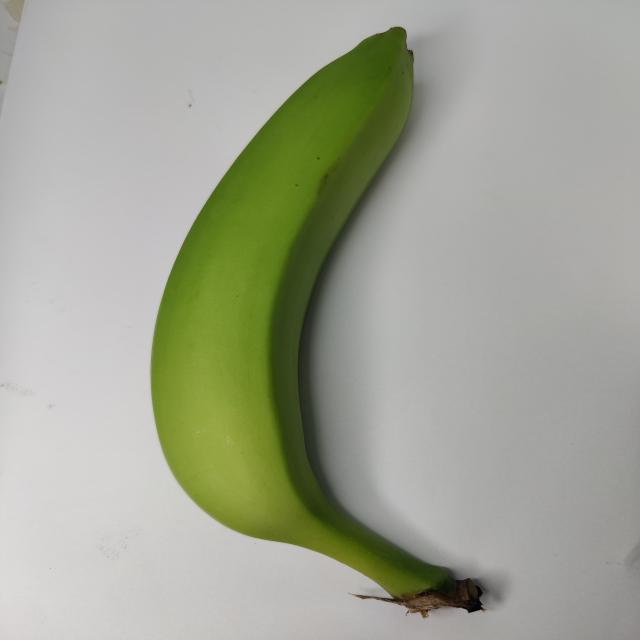raw: (66, 13, 537, 619)
